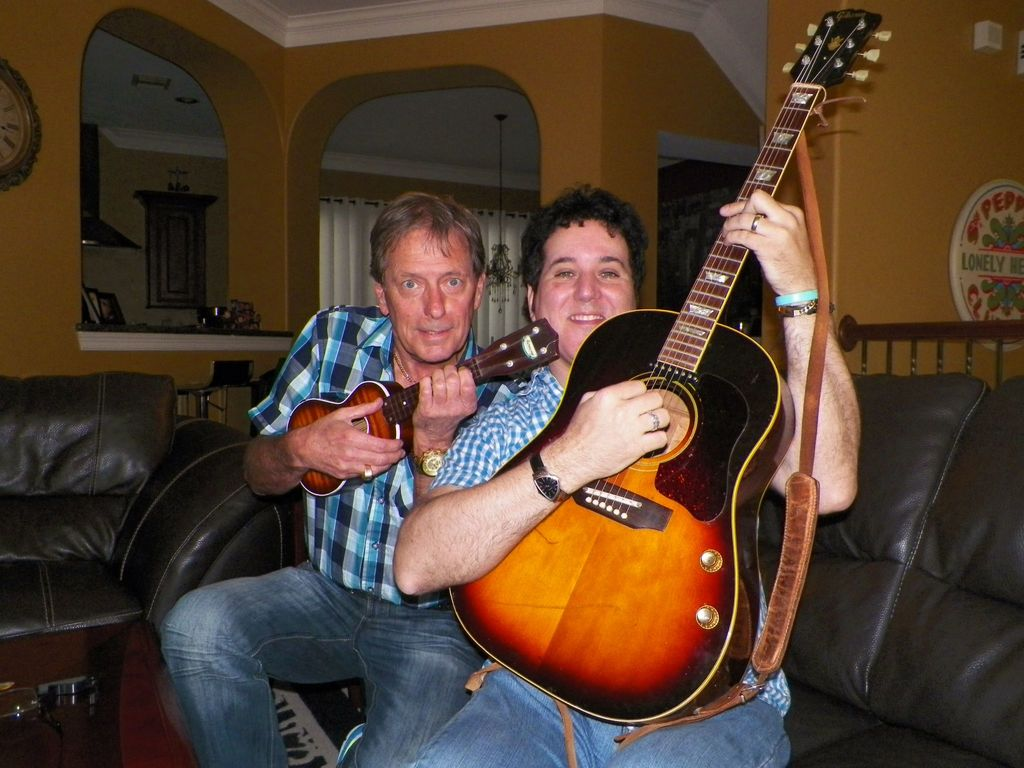Couch: (316, 377, 1023, 767), (0, 327, 300, 693)
